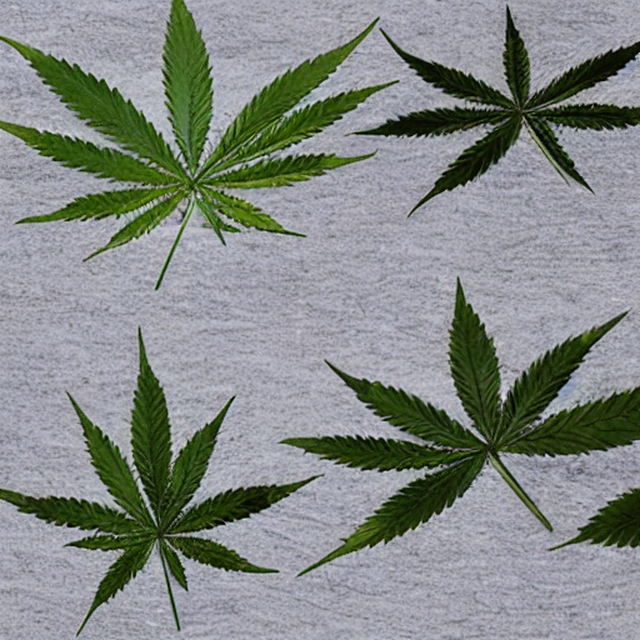Marijuana Leaf: (0, 0, 397, 289), (278, 274, 640, 578), (0, 324, 324, 636), (346, 1, 640, 218)
